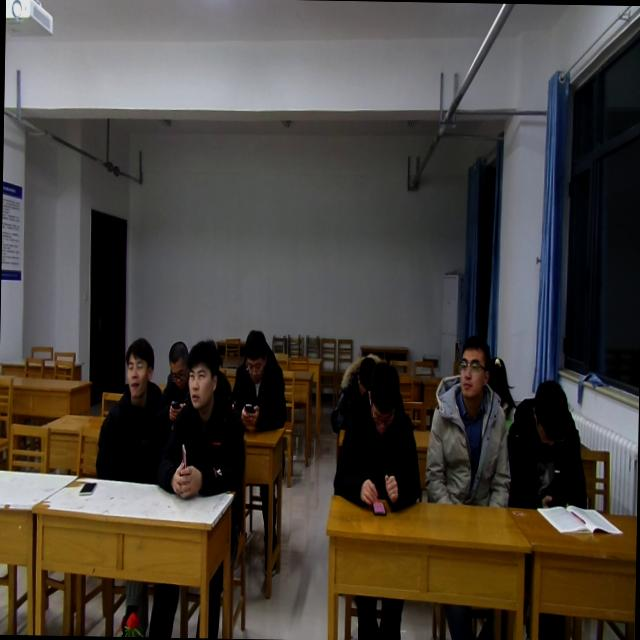bow: (230, 326, 289, 434), (328, 351, 386, 438), (162, 338, 194, 426)
down: (527, 373, 571, 450), (364, 359, 400, 436), (240, 324, 270, 386), (163, 334, 192, 389), (348, 350, 374, 394)
lookup: (182, 331, 222, 408), (452, 329, 491, 401), (119, 334, 155, 401)
sit: (422, 332, 516, 512), (150, 336, 248, 502), (333, 357, 423, 511), (94, 334, 170, 486), (506, 376, 590, 512)
